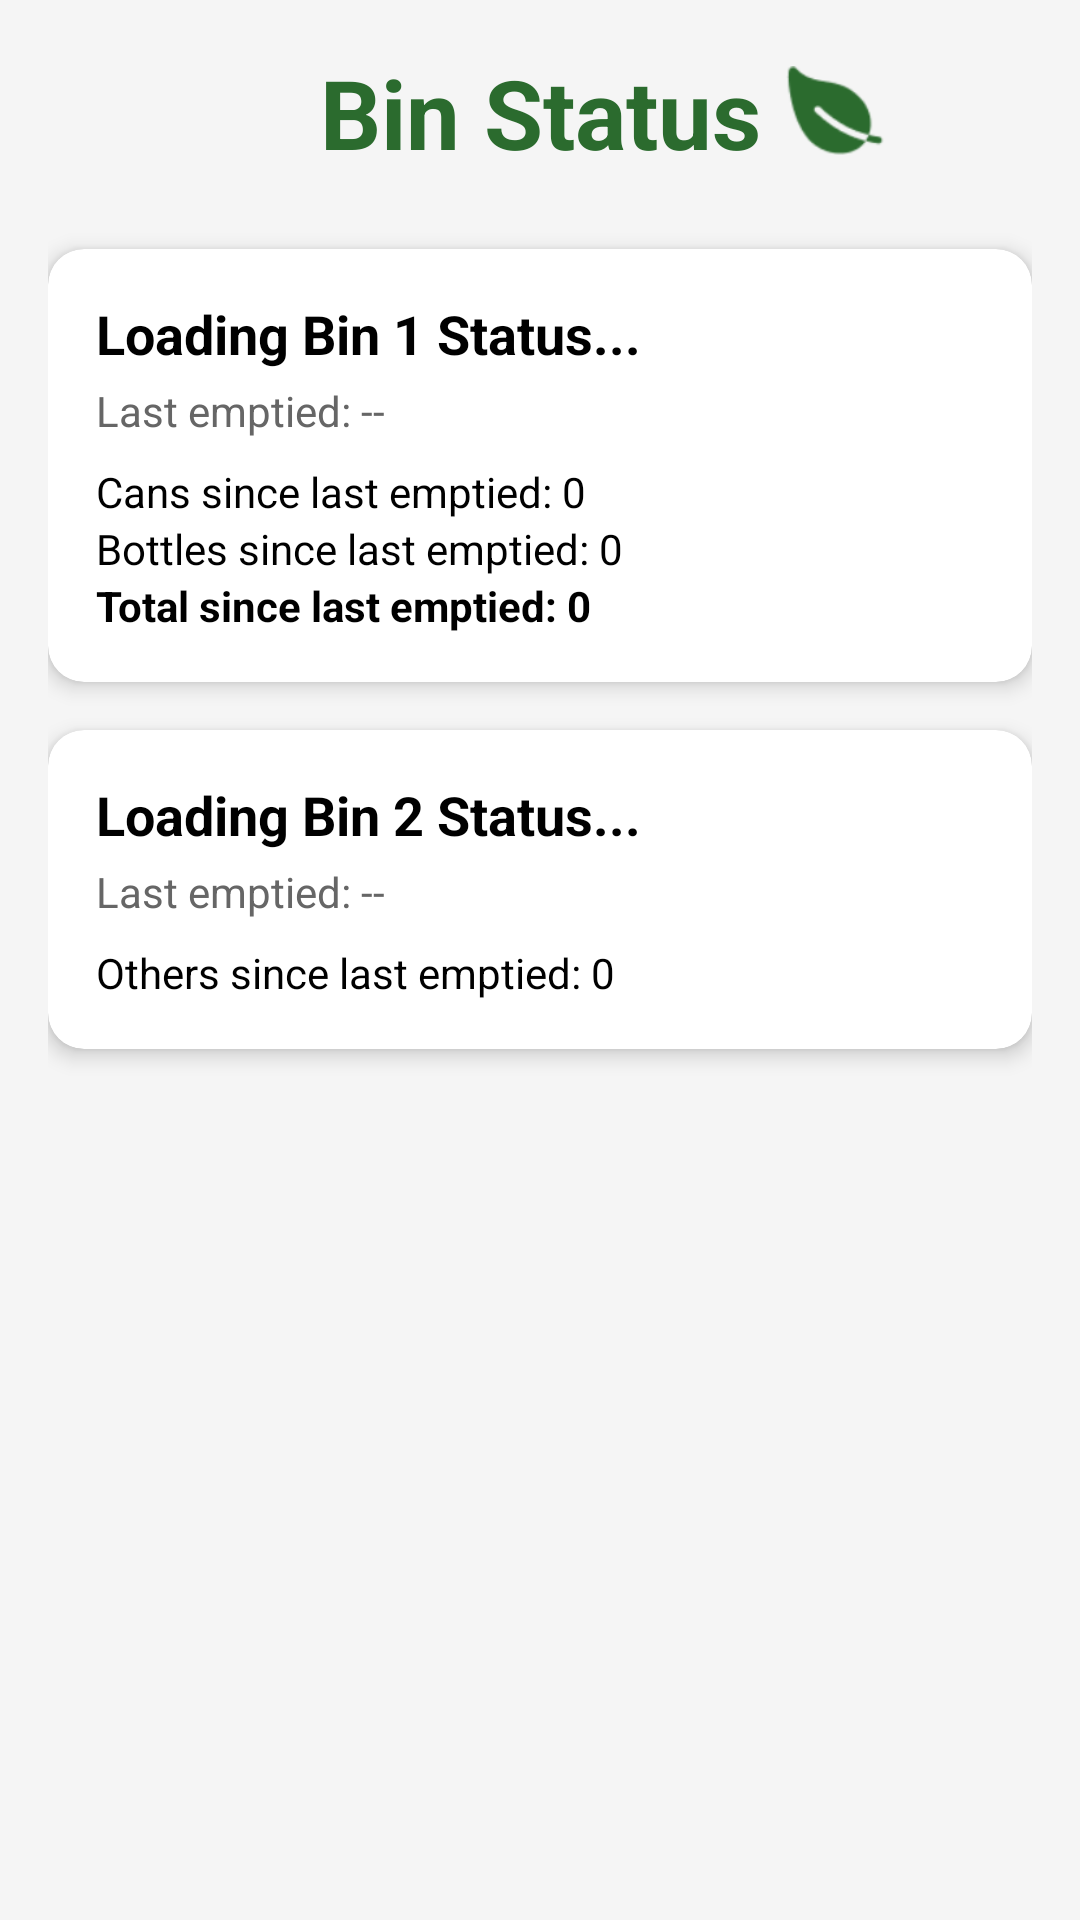

Point at icon controls on the screen. Image size 1080 × 1920, points as (x=x, y=y).
Leaf icon: (x=835, y=110)
